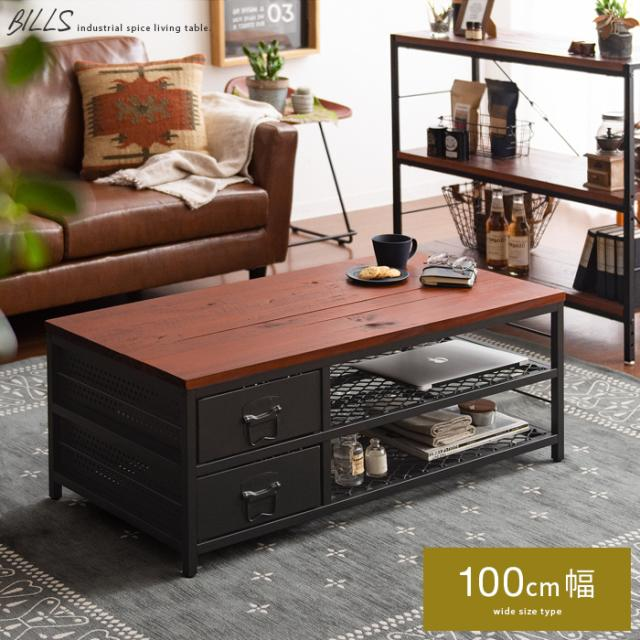vintage desk: (45, 250, 569, 579)
vintage shelf: (378, 20, 640, 301)
vintage sofa: (0, 39, 299, 302)
